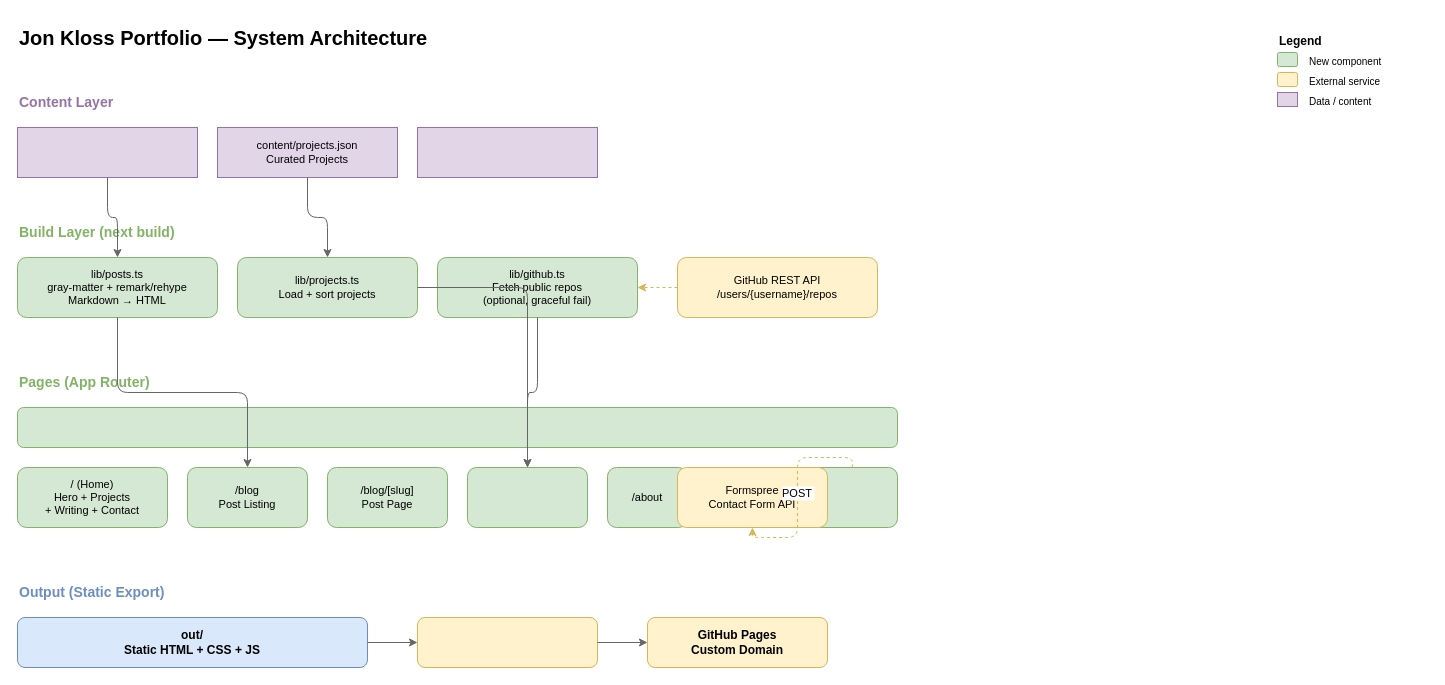
This 1445x685 diagram has some shape labels left out. Each missing label, with the centre of its shape:
/contact: the point at 852,497
/projects Projects Page: the point at 527,497
content/posts/*.md Blog Posts (Markdown): the point at 107,152
content/resume.json Resume Entries: the point at 507,152
GitHub Actions Build on push to main: the point at 507,642
Root Layout Nav + Footer + ThemeProvider: the point at 457,427
